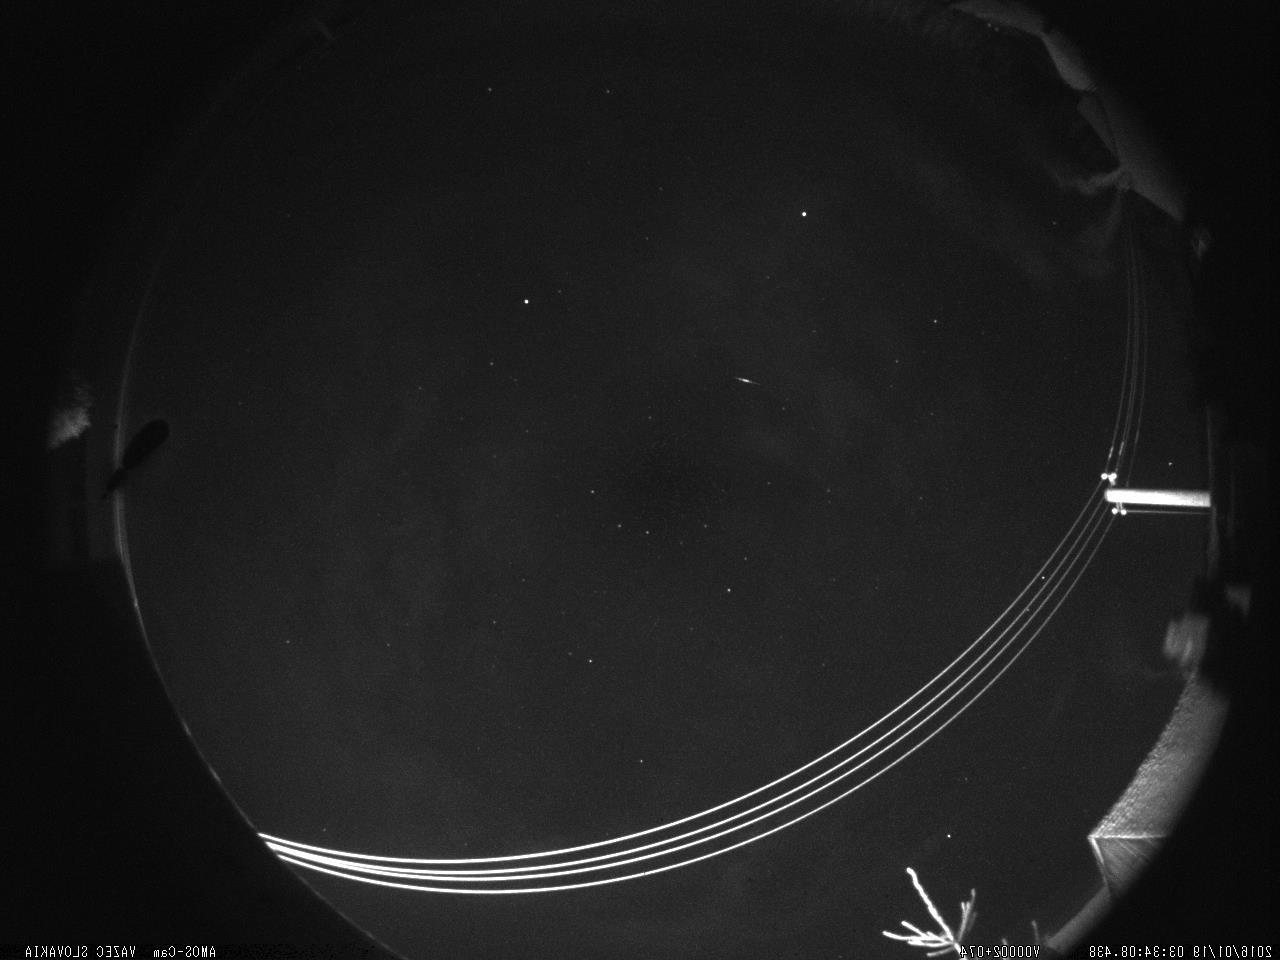meteor: (721, 372, 768, 390)
